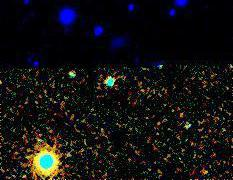star: (190, 158, 220, 180)
